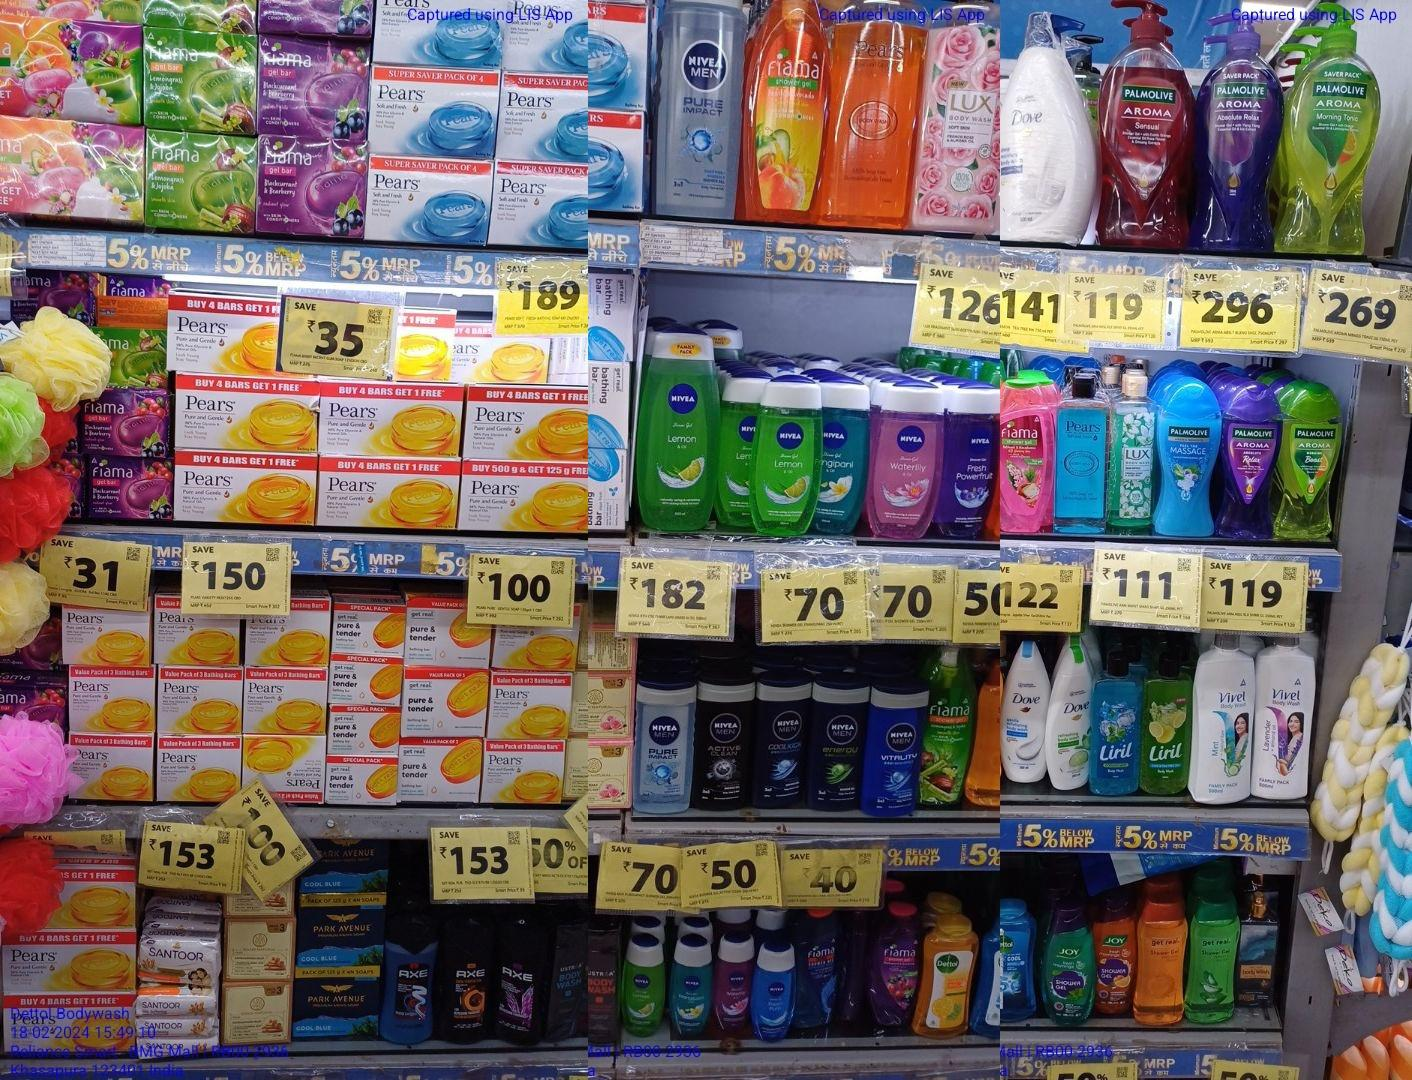Dettol_Bodywash_Refresh: (916, 912, 970, 1039)
Dove_Gentle_Exfoliating_Body_Wash_250ML: (1001, 642, 1049, 786)
Dove_Refreshing_Body_Wash_250ML: (1051, 636, 1091, 795)
Fiama_Shower_Gel_Patchouli_and_Macadamia_250ML: (999, 372, 1049, 535)
Get_Real_Shower_Gel_Moisturising_Glycerin_300ML: (1138, 897, 1185, 1019)
Joy_Shower_Gel_Mandarin_and_Lemongrass_250ML: (1094, 893, 1133, 1014)
Joy_Shower_Gel_Mint_and_Eucalyptus_250ML: (1039, 904, 1093, 1032)
Liril_Cooling_Mint_Body_Wash_250ML: (1093, 641, 1142, 799)
Liril_Lime_and_Tea_Tree_Oil_Body_Wash_250ML: (1144, 649, 1184, 795)
Lux_Body_Wash_Skin_Detox_Freesia_Scent_and_Alove_Vera_245ML: (1107, 372, 1148, 526)
Nivea_Shower_Gel_Fresh_Powerfruit_250ML: (944, 386, 995, 538)
Nivea_Shower_Gel_Lemon_and_Oil_250ML: (642, 330, 721, 528), (755, 374, 819, 535)
Nivea_Shower_Gel_Waterlily_and_Oil_250ML: (868, 381, 944, 541)
Palmolive_Aroma_Moments_Feel_The_Massage_Shower_Gel_250ML: (1153, 377, 1215, 535)
Palmolive_Aroma_Morning_Tonic_Shower_Gel_250ML: (1280, 383, 1334, 539)
Palmolive_Aroma_Relax_250ML: (1218, 385, 1276, 538)
Pears_Pure_Glycerin_and_Mint_Extracts_Body_Wash_250ML: (1052, 373, 1104, 533)
